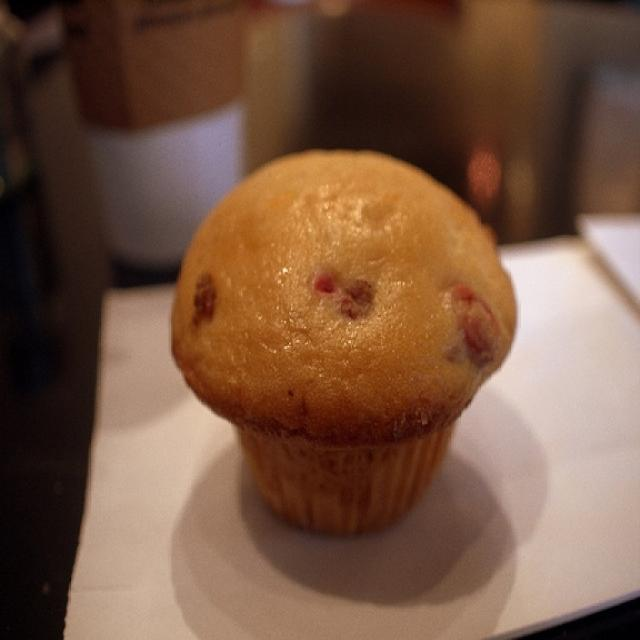炸货点心: (100, 93, 631, 625)
面包点心: (100, 93, 631, 625)
